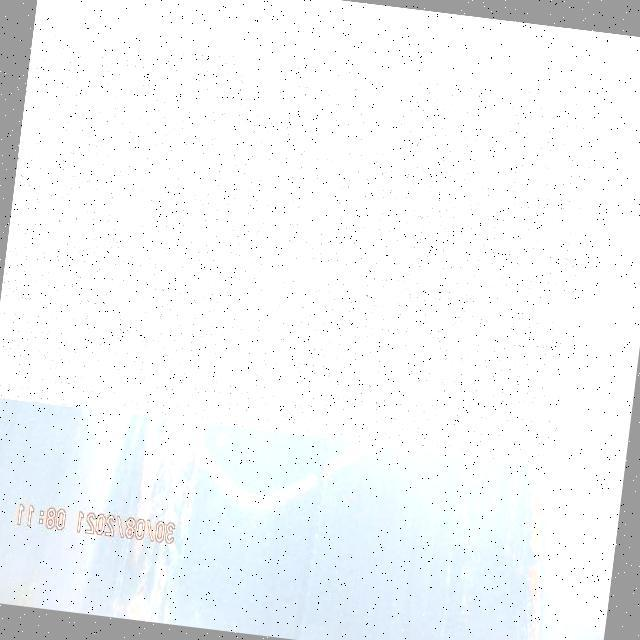Dent: (0, 30, 598, 465)
